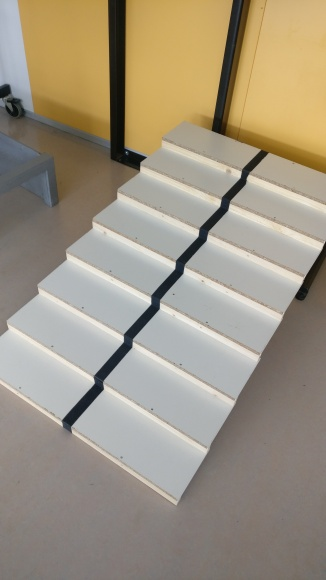stairs: (1, 122, 326, 509)
